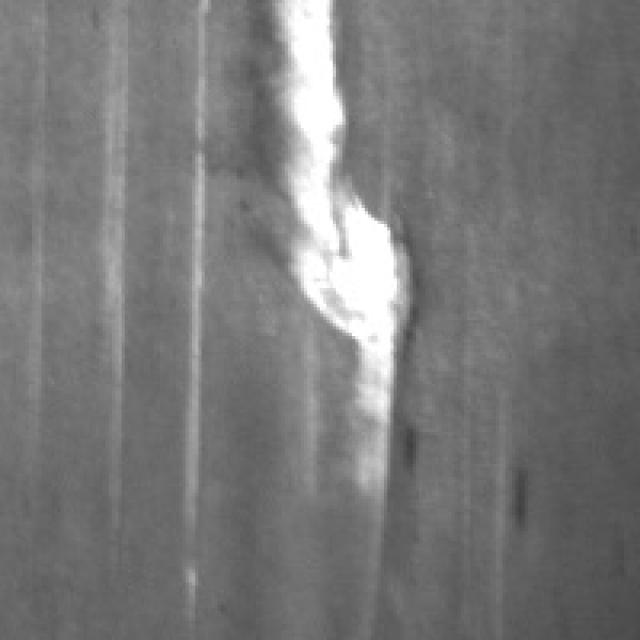scratches: (256, 0, 410, 506), (83, 0, 134, 518), (173, 0, 211, 522)
